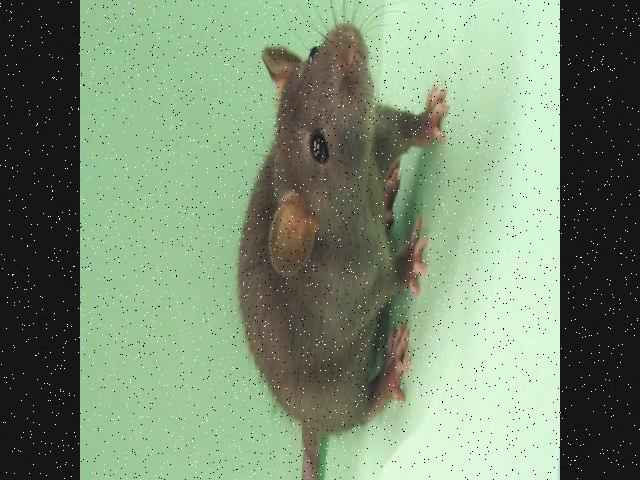Tikus: (232, 16, 452, 480)
